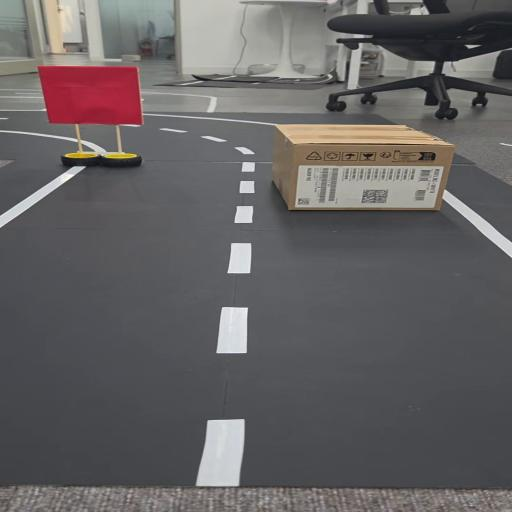Box: (263, 124, 467, 214)
Sign_A: (36, 66, 154, 177)
